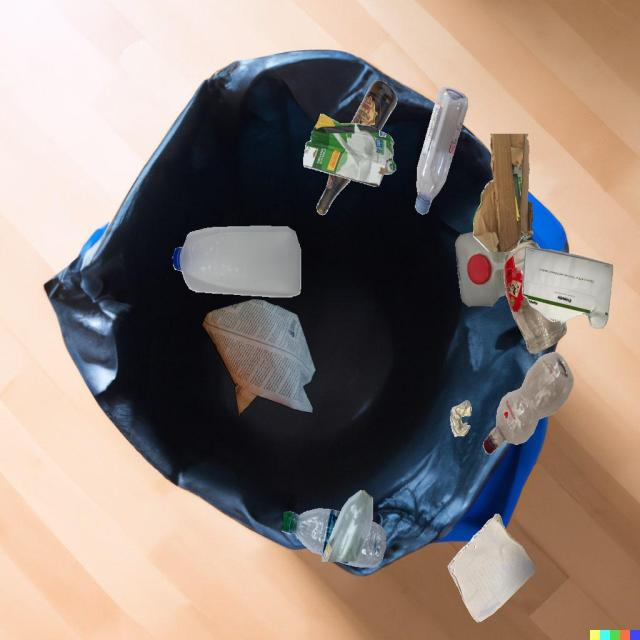cardboard: (473, 134, 534, 252), (303, 114, 396, 186)
glass: (504, 240, 567, 354), (321, 490, 373, 562), (351, 80, 397, 131), (316, 174, 351, 215)
paper: (202, 299, 316, 415), (447, 514, 537, 622), (522, 247, 613, 329), (450, 400, 471, 436)
plastic: (483, 352, 573, 454), (173, 226, 301, 297), (415, 87, 468, 214), (455, 232, 507, 306), (282, 508, 341, 556), (337, 521, 386, 567)
